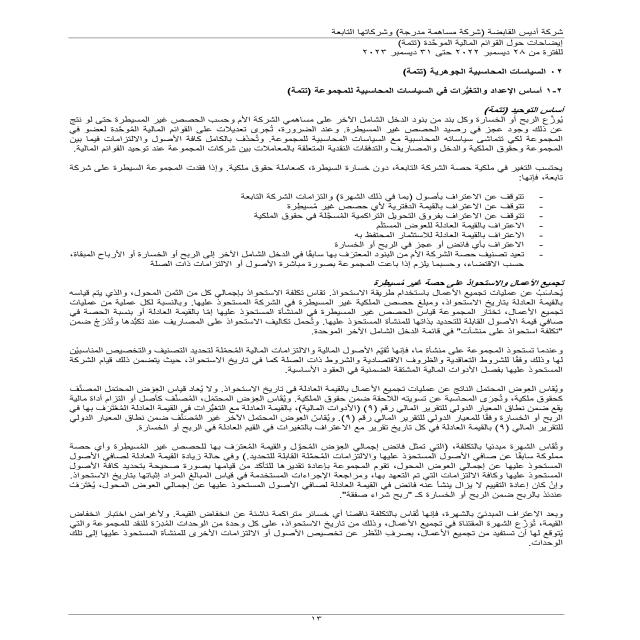notes: (392, 37, 570, 47)
text: (40, 57, 597, 555)
